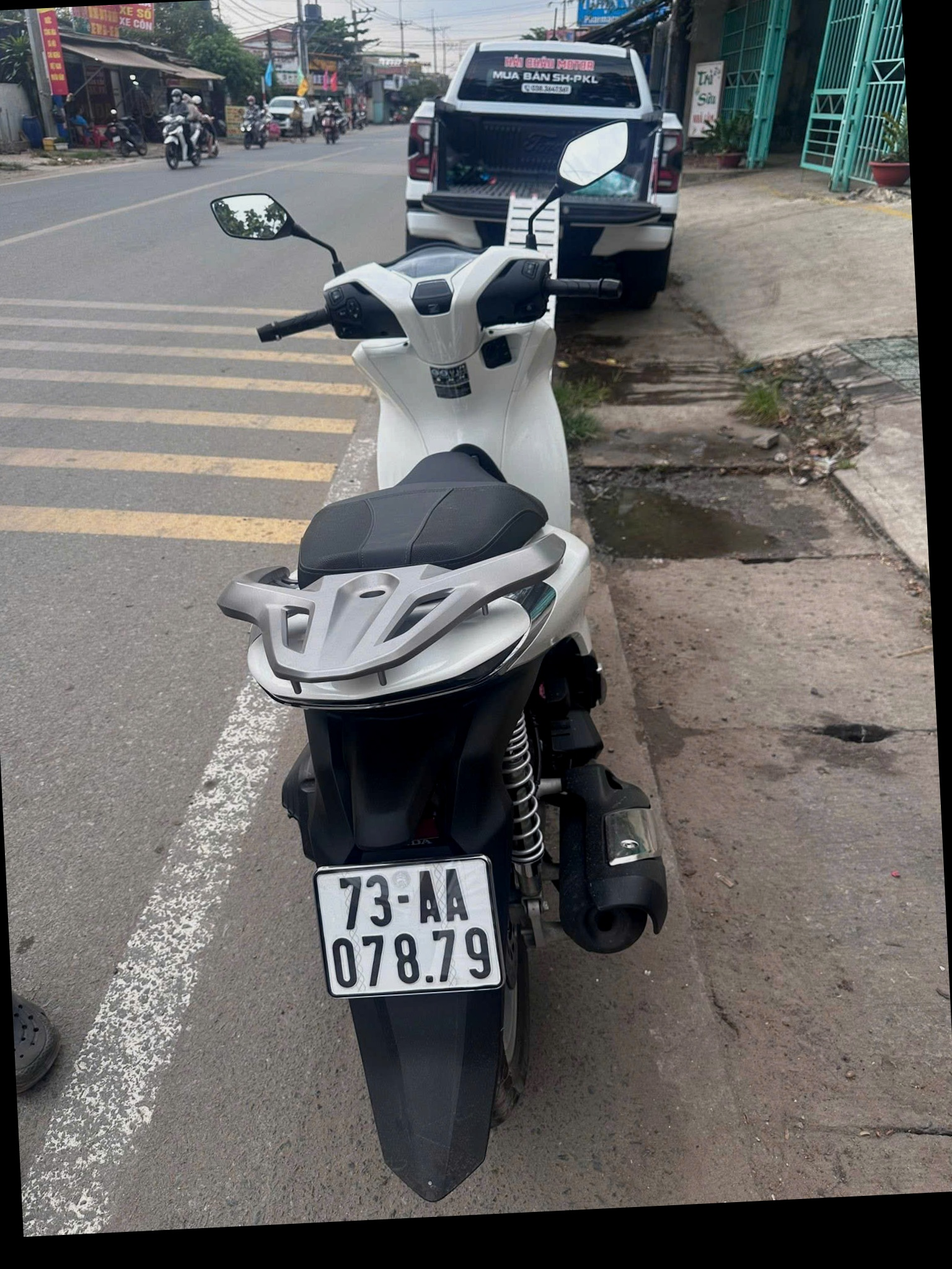Bien-so: (324, 896, 518, 1068)
